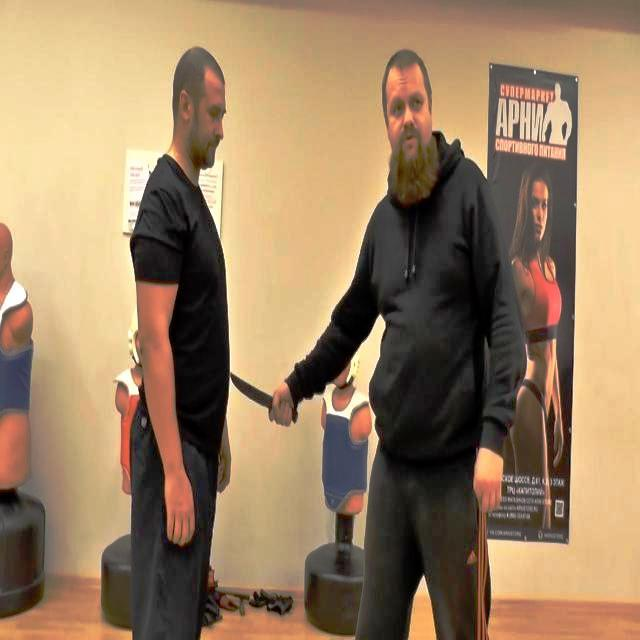Knife: (219, 370, 299, 422)
